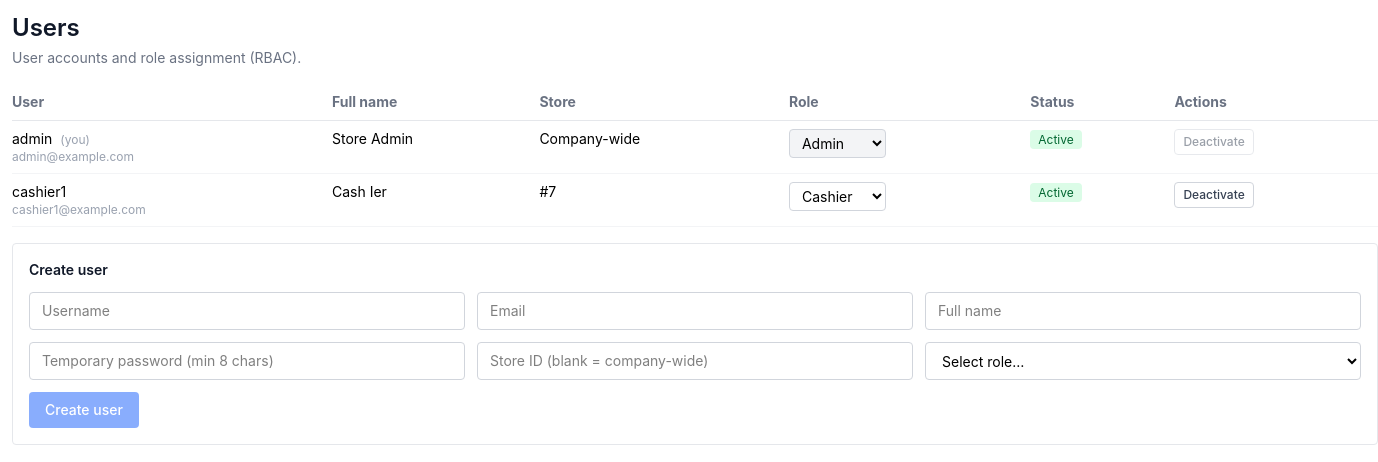
Test: UsersPage › deactivates and reactivates a user
Expected: the heading "Users" is shown, [12,13,80,42]
Expected: the text "cashier1" is shown, [12,183,66,200]
Click the button "Deactivate" in the row of "cashier1@example.com" at (1214, 195), box [1174,182,1254,208]
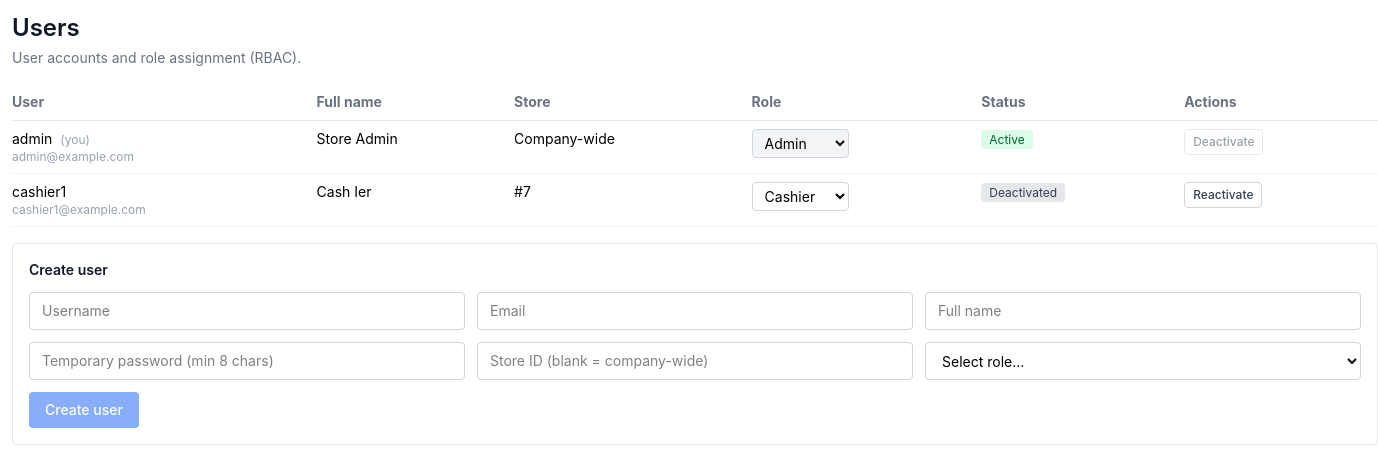
Expected: the button "Reactivate" is shown
Expected: the text "Deactivated" is shown, [981,183,1065,202]
Click the button "Reactivate" at (1223, 195), box [1184,182,1262,208]
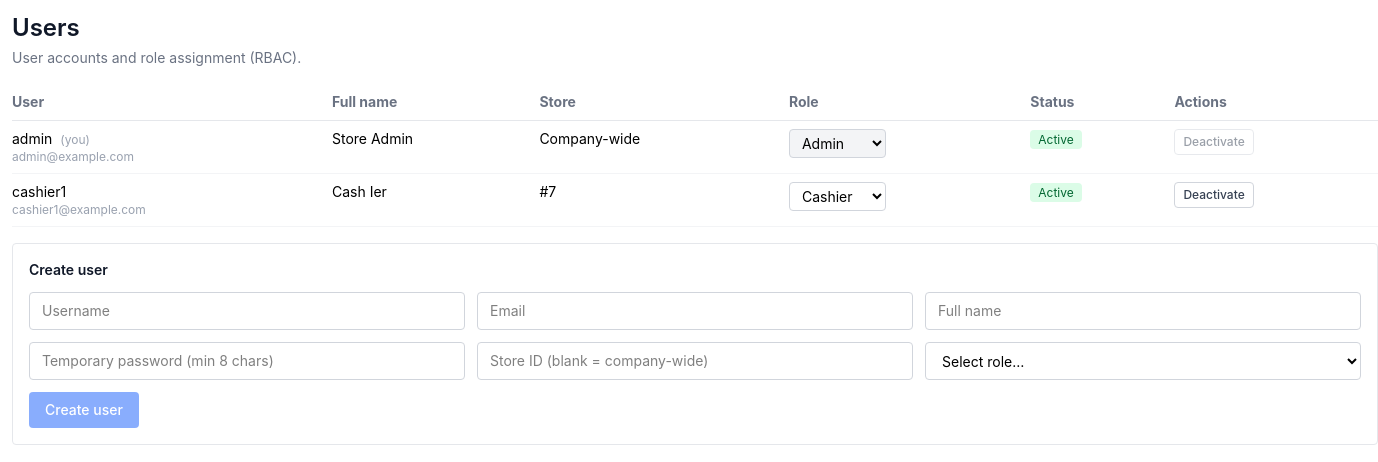
Expected: the button "Deactivate" in the row of "cashier1@example.com" is shown, [1174,182,1254,208]
